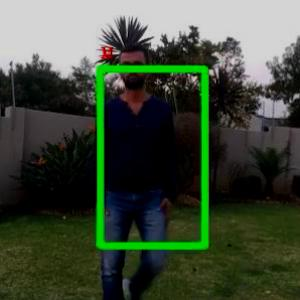follow: (84, 18, 190, 299)
